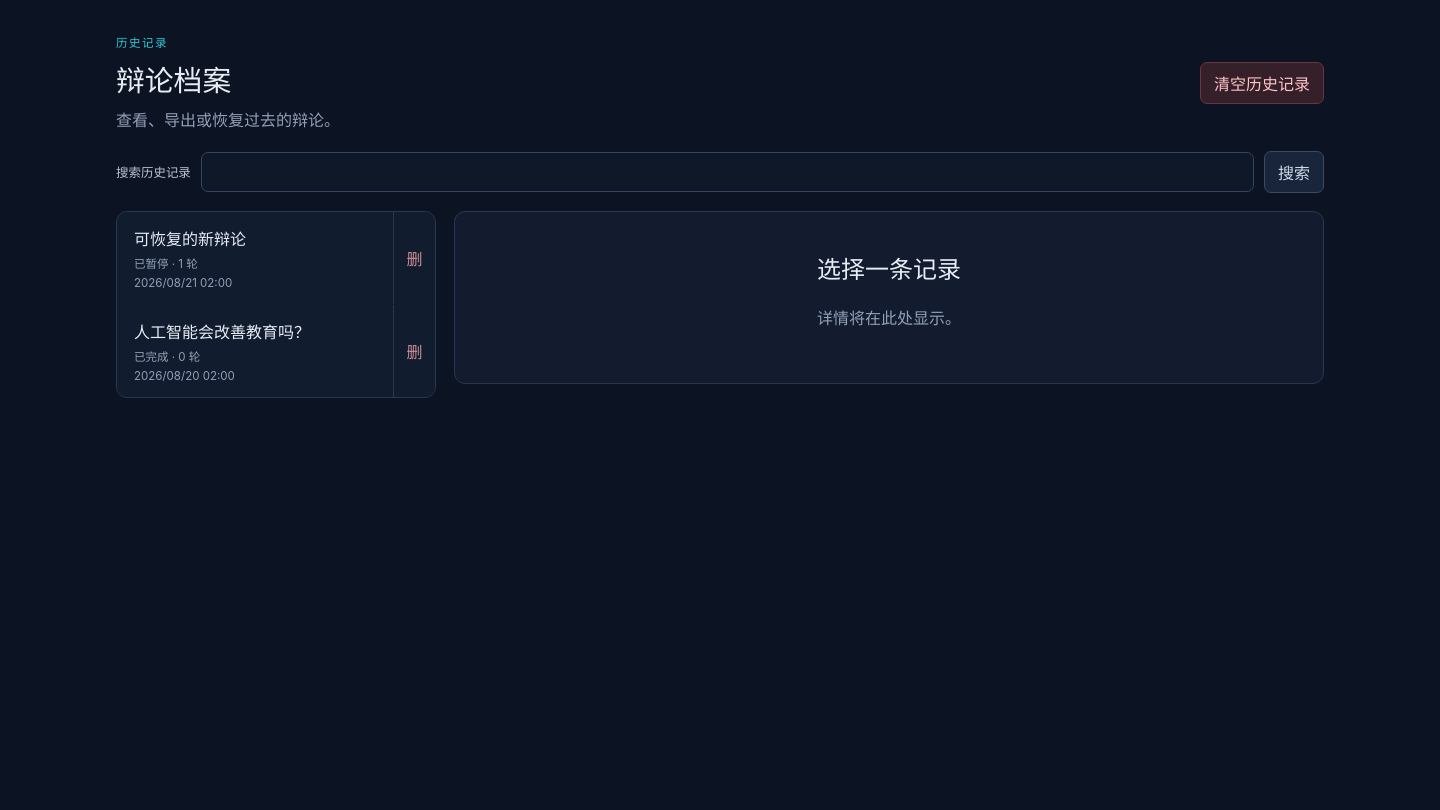
Scenario: history page › deletes a row while its detail request is pending and ignores the late detail
Step 1. Click the button with aria-label "查看可恢复的新辩论" → [190, 239], box [117,212,393,304]
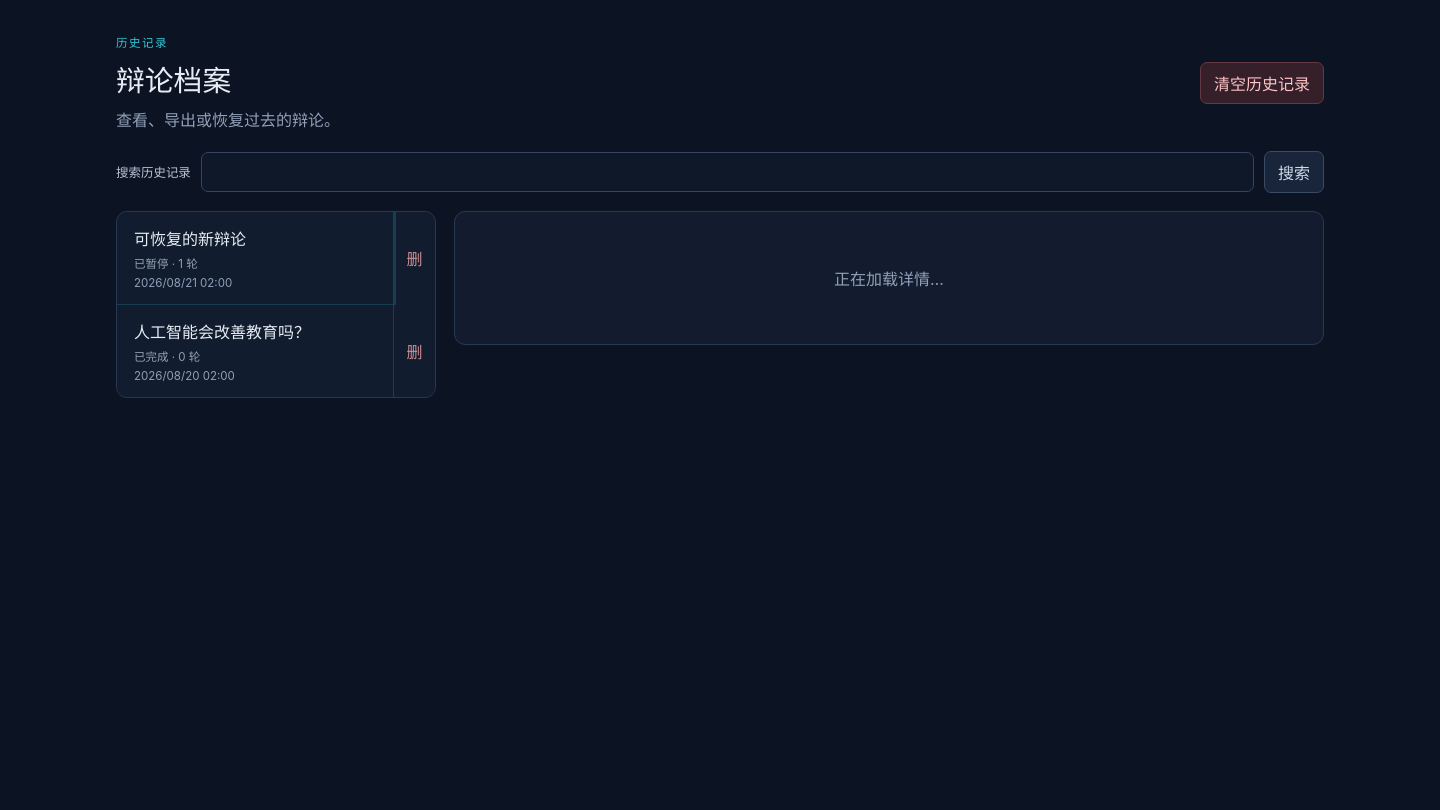
Step 2. Click the button named "删除可恢复的新辩论" → [414, 258], box [393,212,435,304]
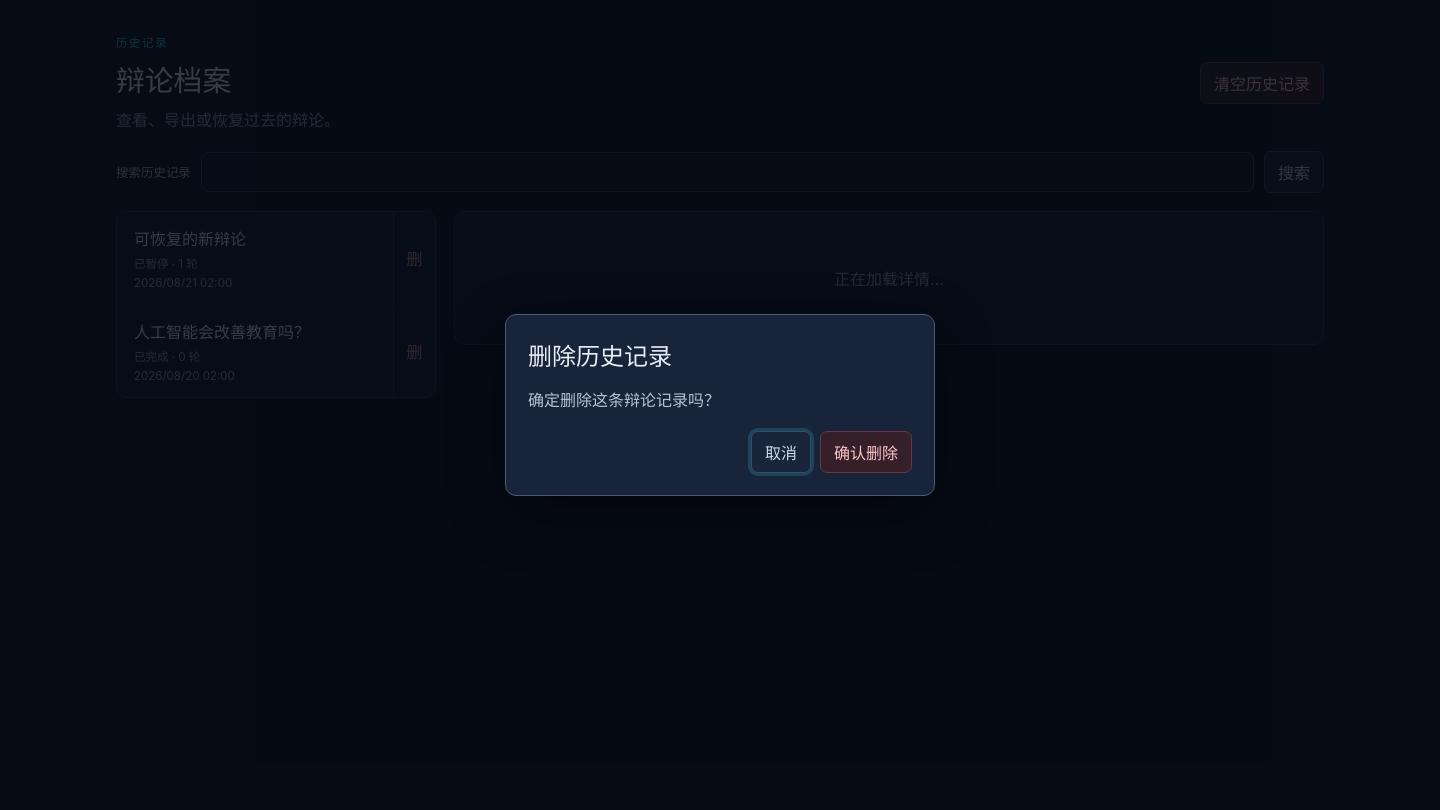
Step 3. Click the button "确认删除" → [866, 452], box [820,431,912,473]
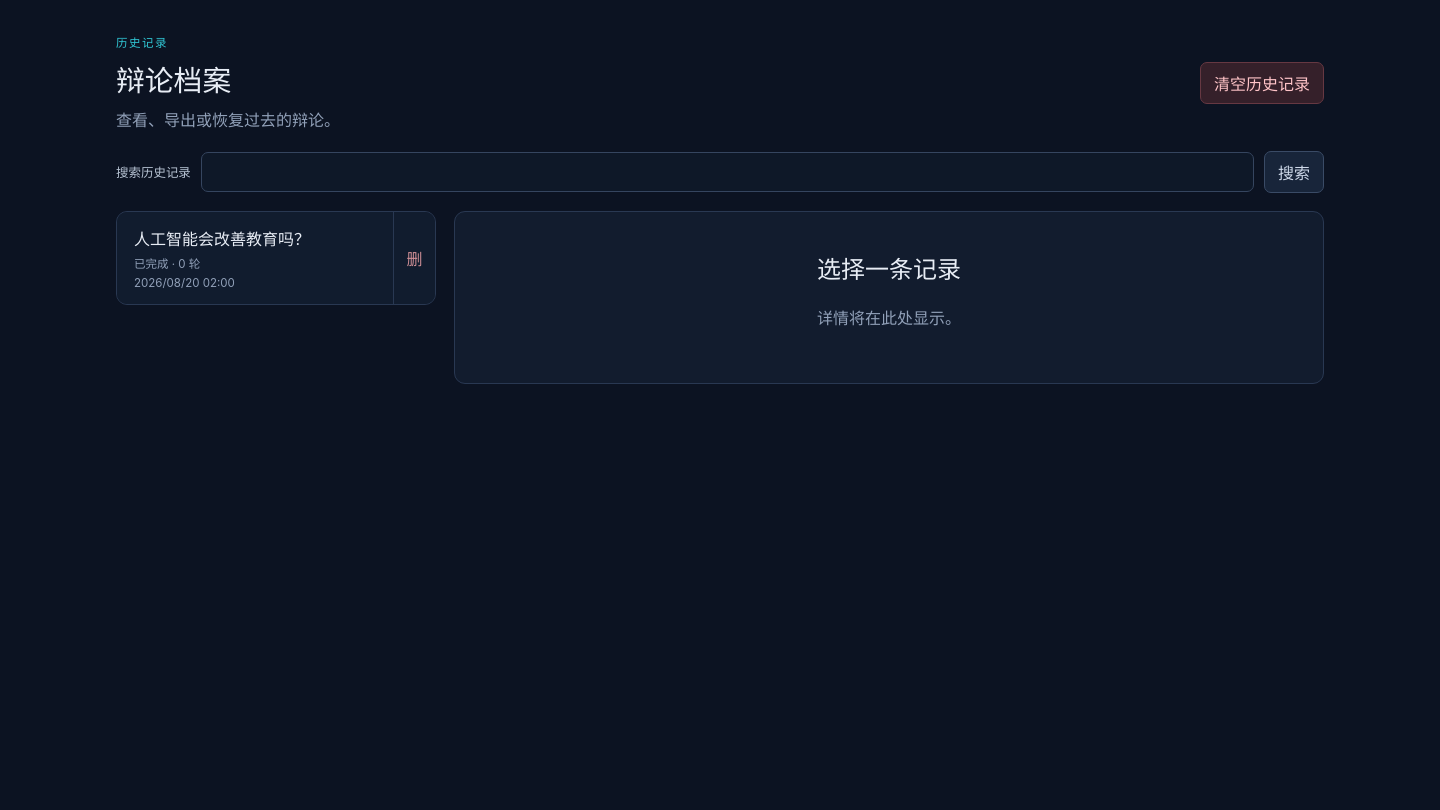
Expected: the button "查看可恢复的新辩论" is gone
Expected: the button "可恢复的新辩论" is gone
